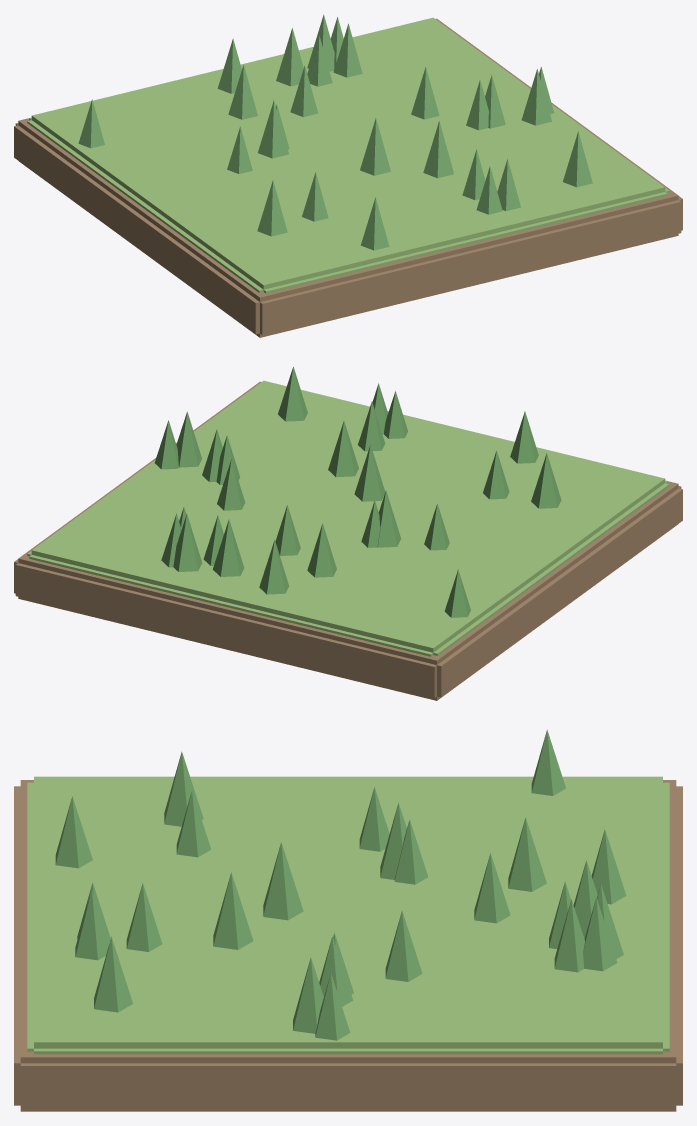
The model's file is HOB_Tile_Grass.fbx.
The picture shows the model from 3 angles, top to bottom: view 1: azimuth 30°, elevation 25°; view 2: azimuth 150°, elevation 25°; view 3: azimuth 270°, elevation 25°; orthographic projection. The views are drawn at different scales.
Parts seen in each view (by area): view 1: HOB_Tile_Grass; view 2: HOB_Tile_Grass; view 3: HOB_Tile_Grass.
Part boxes in pixels (left/top/right/bottom): HOB_Tile_Grass: left=14, top=14, right=682, bottom=337; HOB_Tile_Grass: left=14, top=366, right=682, bottom=700; HOB_Tile_Grass: left=14, top=729, right=682, bottom=1111.
Size of the model in its own units: 100 by 22.25 by 100.
